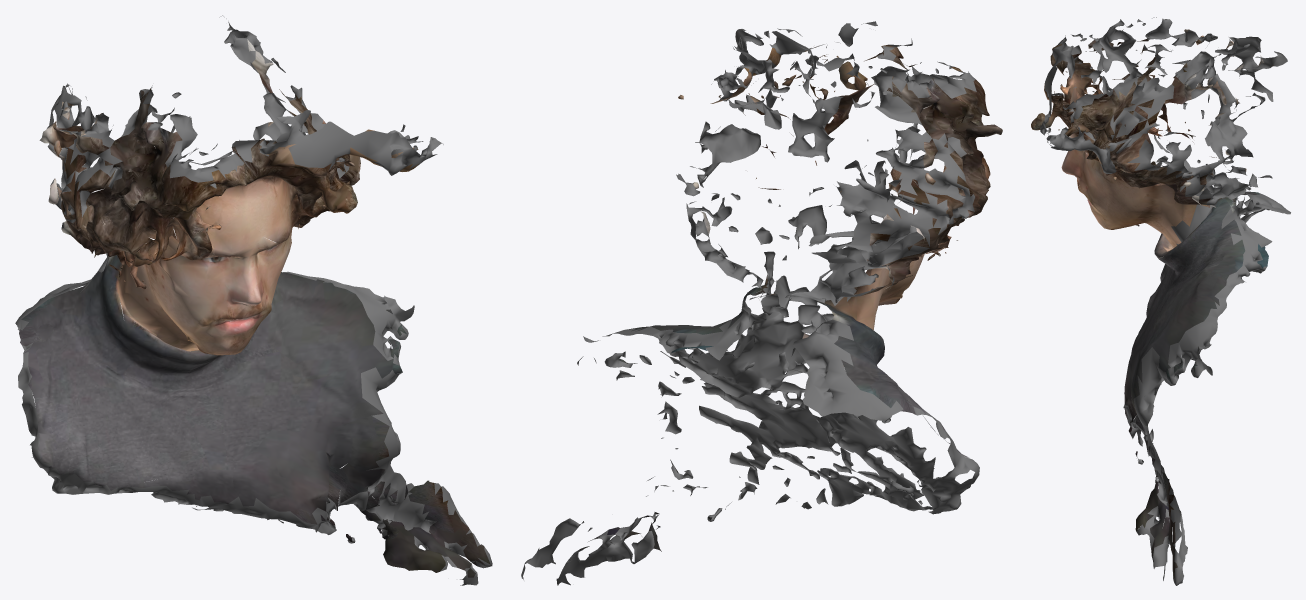
File: openeyes-opt.glb
3 views of the same model, side by side, from view 1: azimuth 30°, elevation 25°; view 2: azimuth 150°, elevation 25°; view 3: azimuth 270°, elevation 25° (orthographic). The views are drawn at different scales.
Bounding box in the file's own units: 4.66 × 5.76 × 3.02.
5 materials, 5 textured.
